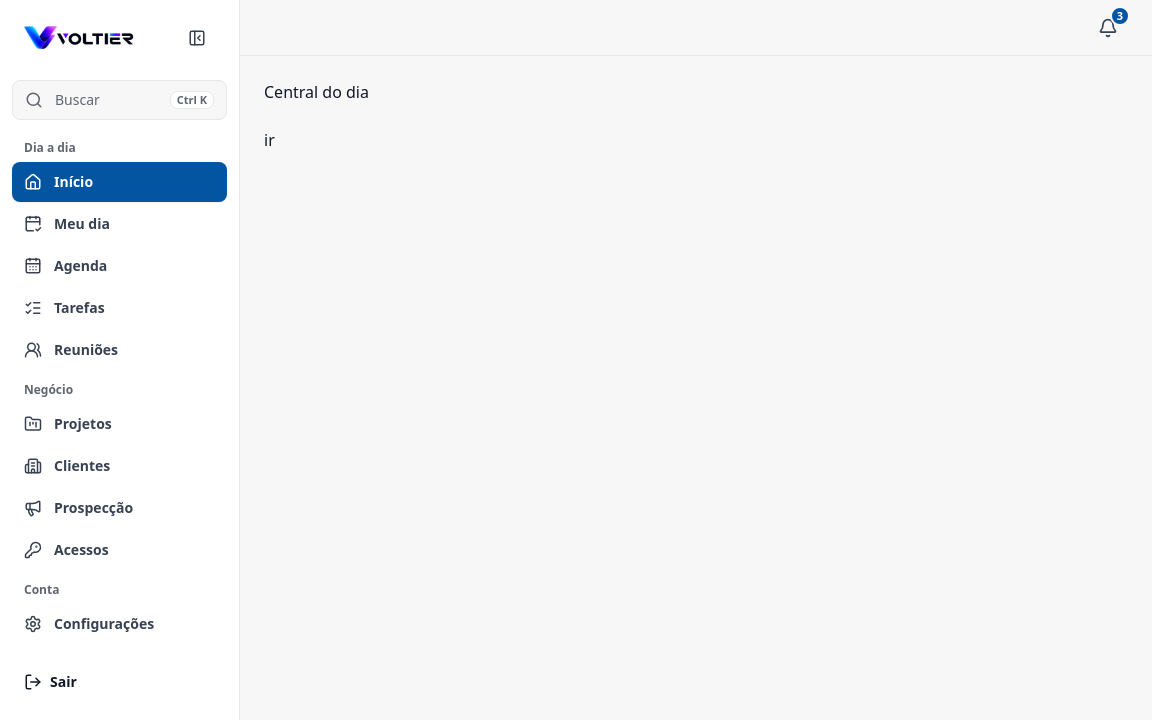
Test case: AppShell — acessibilidade › recolhe a sidebar, lembra a preferência e mantém notificações no sino do topo
Expected: the link named "Notificações, 3 não lidas" is shown, x1=1098 y1=6 x2=1130 y2=38
Click the button named "Recolher menu lateral" at (197, 38), box x1=179 y1=20 x2=215 y2=56
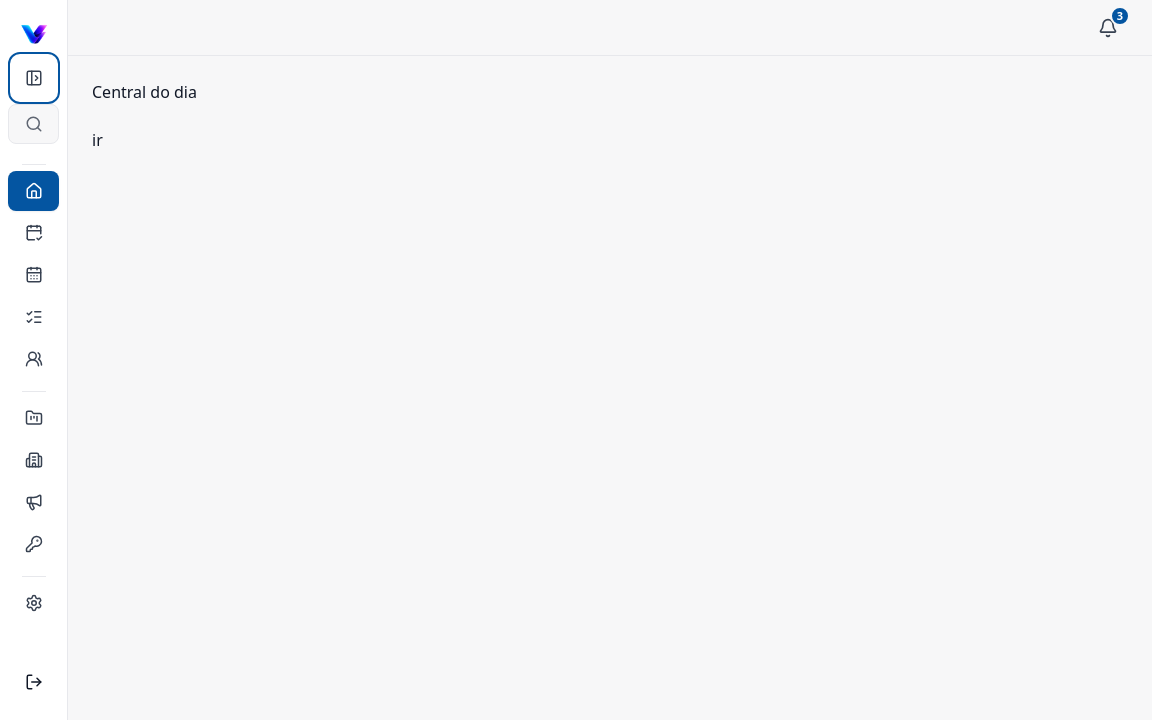
Expected: the link named "Início" is shown, x1=8 y1=171 x2=59 y2=211
Expected: the button named "Expandir menu lateral" is collapsed
Click the button named "Expandir menu lateral" at (34, 78), box x1=12 y1=56 x2=56 y2=100
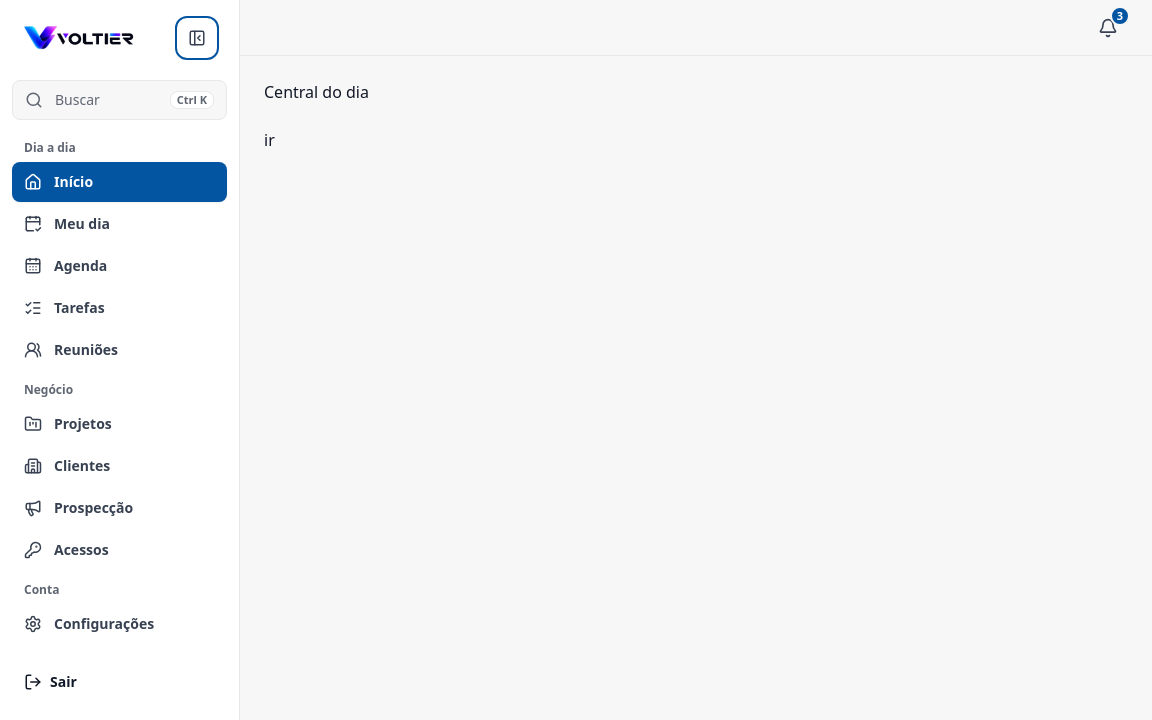
Expected: the button named "Recolher menu lateral" is expanded, x1=179 y1=20 x2=215 y2=56
